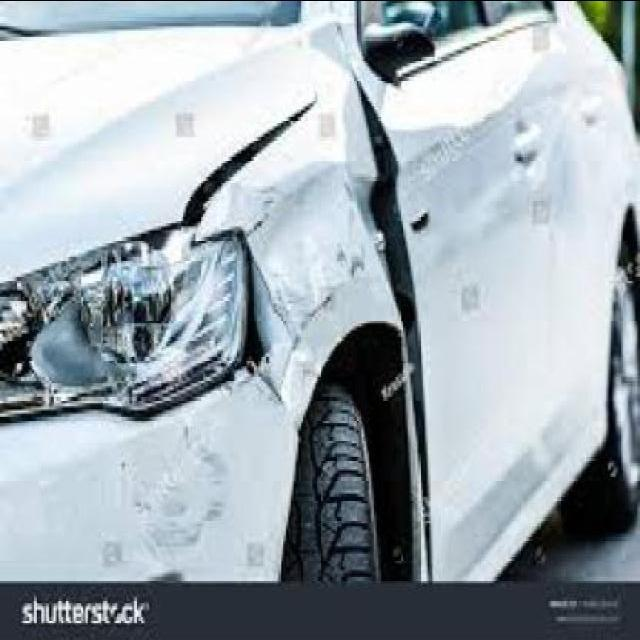Headlight-Damage: (0, 219, 246, 432)
fender-dent: (204, 70, 437, 431)
